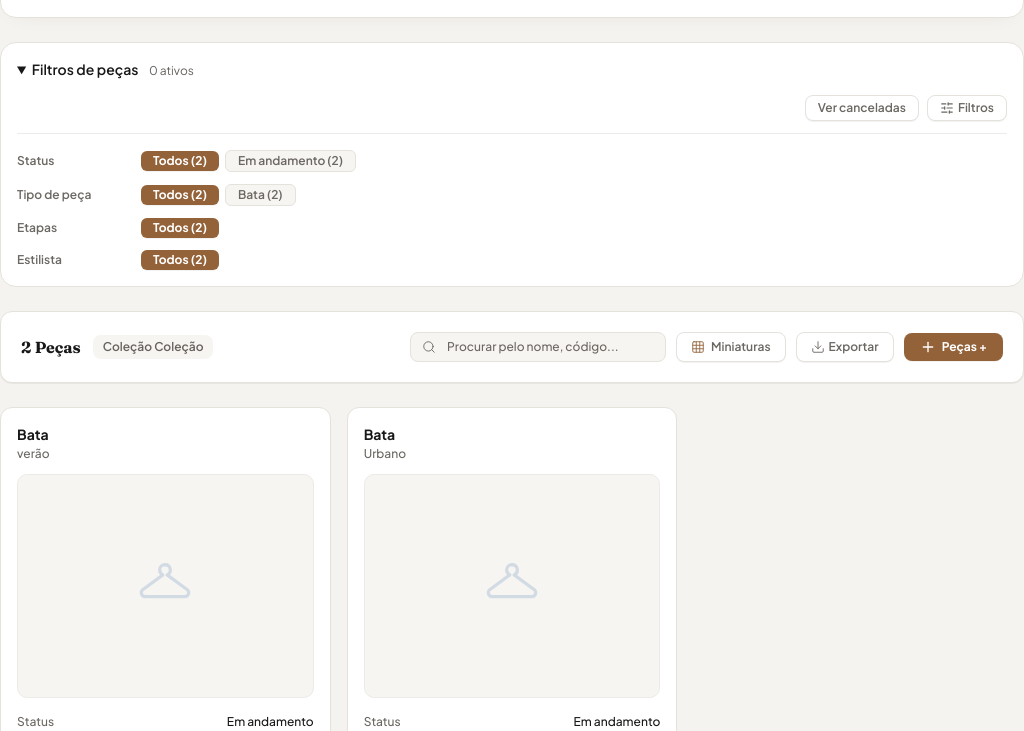
Test: Seleção de tema ao adicionar peças à coleção › oferece os temas já usados nas peças sem duplicar nomes e reinicia em Base ao reabrir o modal
The width and height of the screenshot is (1024, 731).
(page scrolled)
Click the button "Peças +".
click(953, 347)  # box [904, 333, 1003, 361]
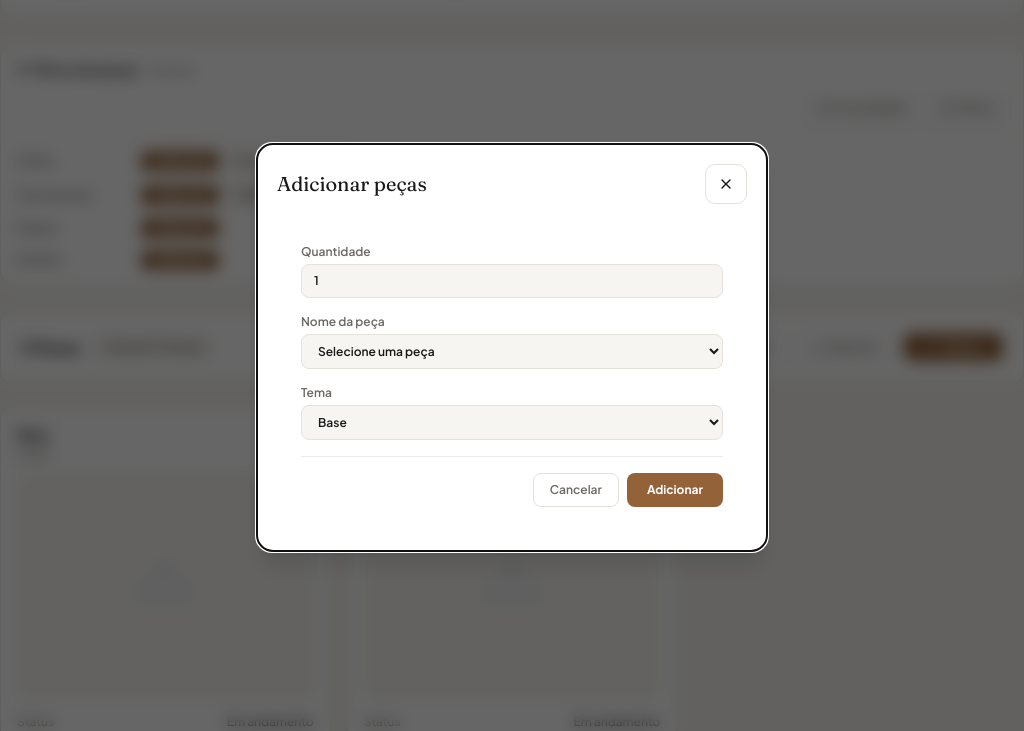
Select "Urbano" in the dropdown labelled "Tema" at (512, 422), box [301, 404, 723, 440]
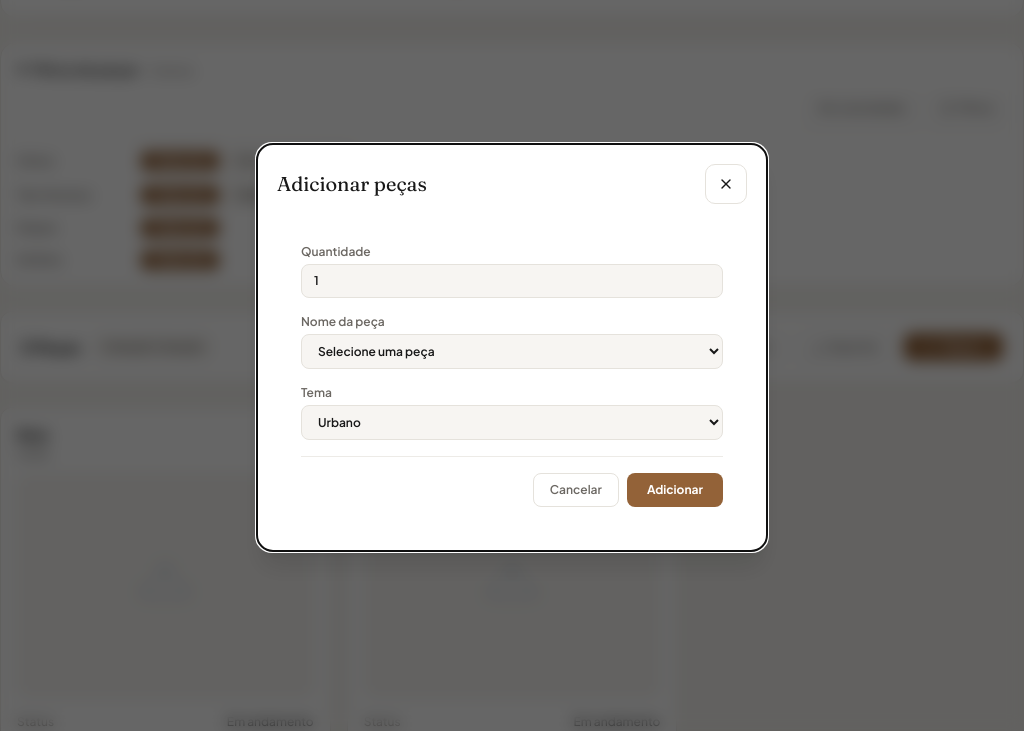
Click the button "Cancelar".
click(576, 490)  # box [533, 472, 619, 506]
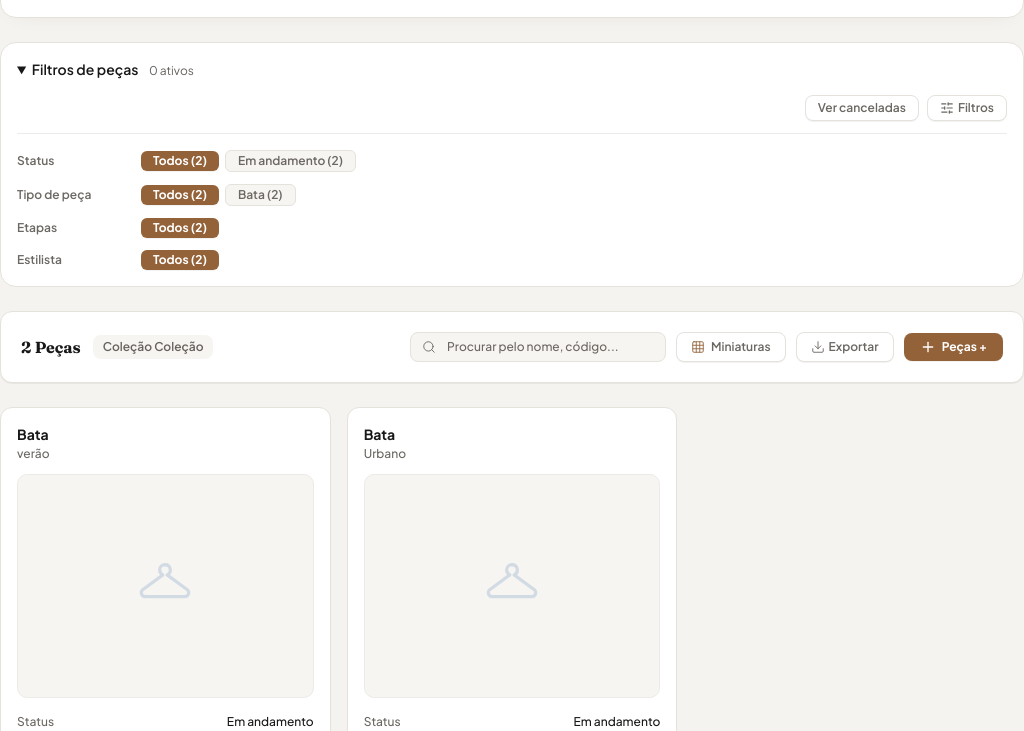
Click the button "Peças +".
click(953, 347)  # box [904, 333, 1003, 361]
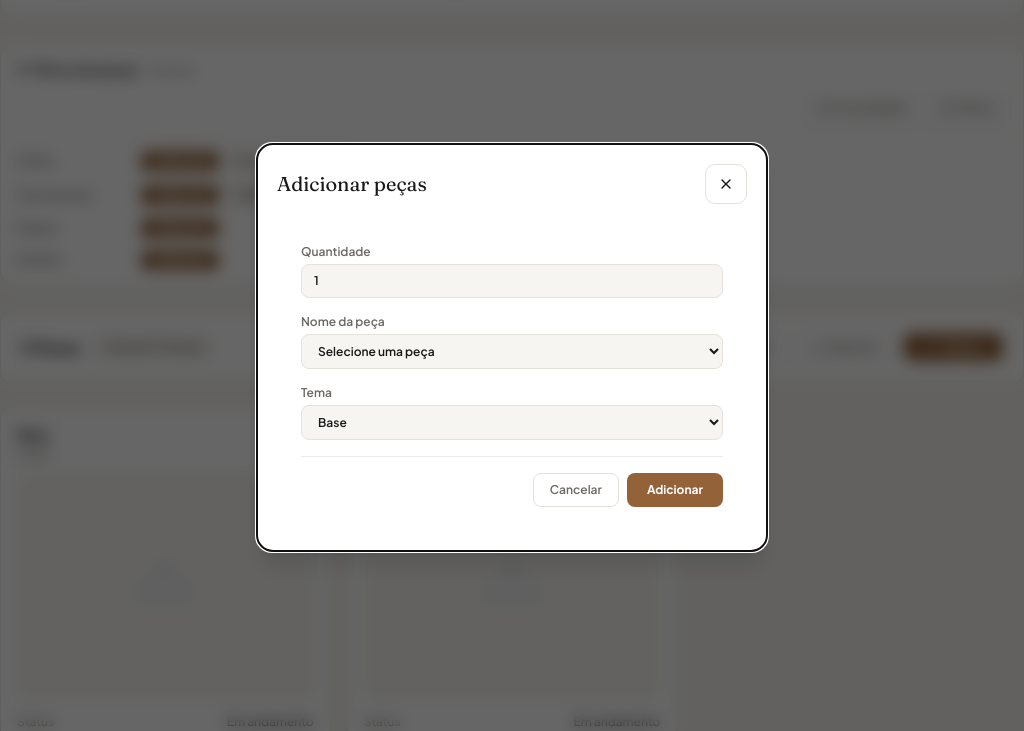
Now the dropdown labelled "Tema" shows "Base", box [301, 404, 723, 440]
